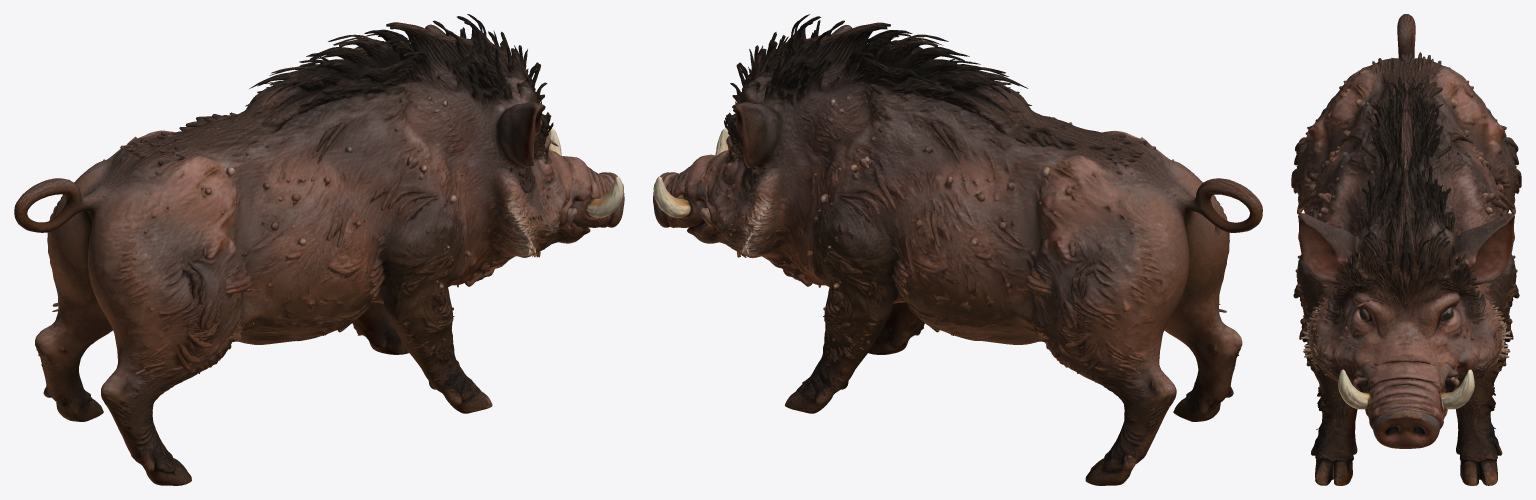
File: bingfeng.glb
3 renders of one model, left to right at view 1: azimuth 30°, elevation 25°; view 2: azimuth 150°, elevation 25°; view 3: azimuth 270°, elevation 25°, orthographic. The views are drawn at different scales.
Parts seen in each view (by area): view 1: tripo_node_0aa39862-c58d-4321-a262-03c6126d7f08; view 2: tripo_node_0aa39862-c58d-4321-a262-03c6126d7f08; view 3: tripo_node_0aa39862-c58d-4321-a262-03c6126d7f08.
Boxes of the visible parts, <box> form: tripo_node_0aa39862-c58d-4321-a262-03c6126d7f08: <box>14,14,624,485</box>; tripo_node_0aa39862-c58d-4321-a262-03c6126d7f08: <box>653,14,1262,485</box>; tripo_node_0aa39862-c58d-4321-a262-03c6126d7f08: <box>1291,14,1521,485</box>.
Size of the model in its own units: 0.9803 by 0.5652 by 0.3364.
1 material, 1 textured.
